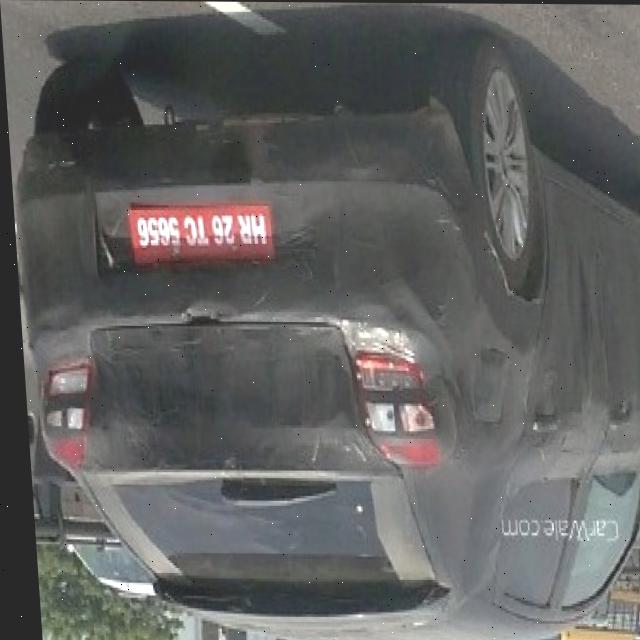plate: (125, 205, 272, 263)
